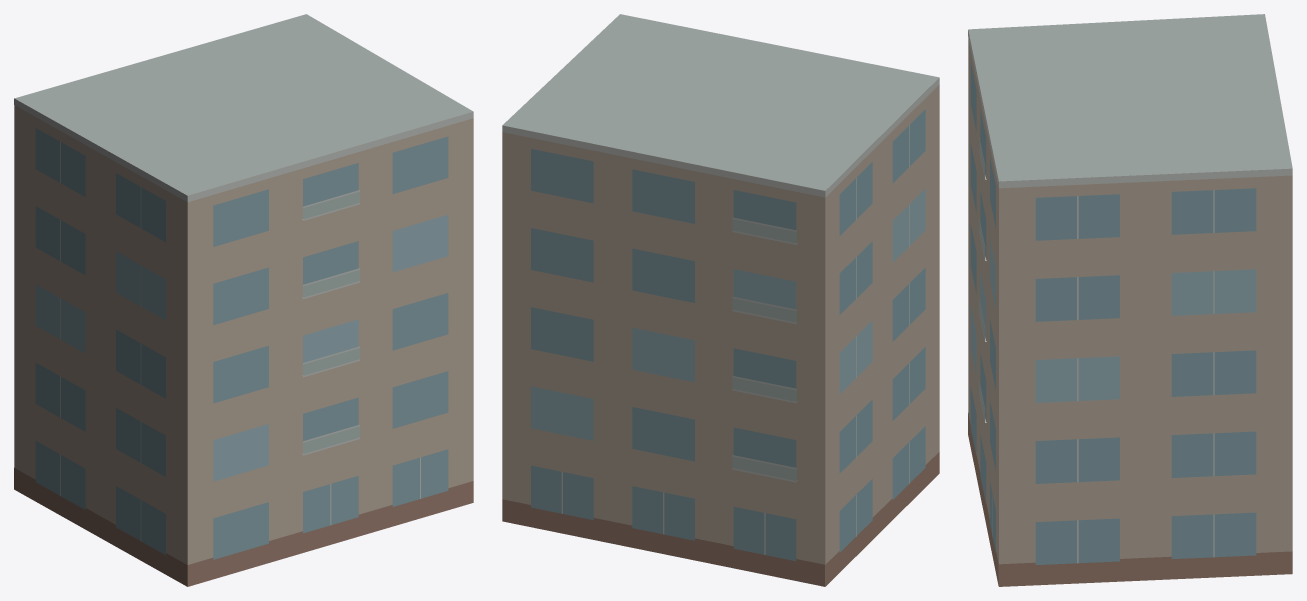
Rendered from survey-upis-32733521.glb.
The picture shows the model from 3 angles, left to right: view 1: azimuth 30°, elevation 25°; view 2: azimuth 150°, elevation 25°; view 3: azimuth 270°, elevation 25°; orthographic projection. The views are drawn at different scales.
Parts seen in each view (by area): view 1: survey-upis-32733521.tmp; view 2: survey-upis-32733521.tmp; view 3: survey-upis-32733521.tmp.
Part boxes in pixels (box(x1,y1,x2,y2)): survey-upis-32733521.tmp: box(14, 14, 473, 586); survey-upis-32733521.tmp: box(502, 14, 939, 586); survey-upis-32733521.tmp: box(968, 14, 1292, 586).
Bounding box in the file's own units: 12.86 × 14.5 × 10.53.
